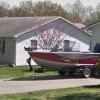Boat: (21, 40, 99, 87)
